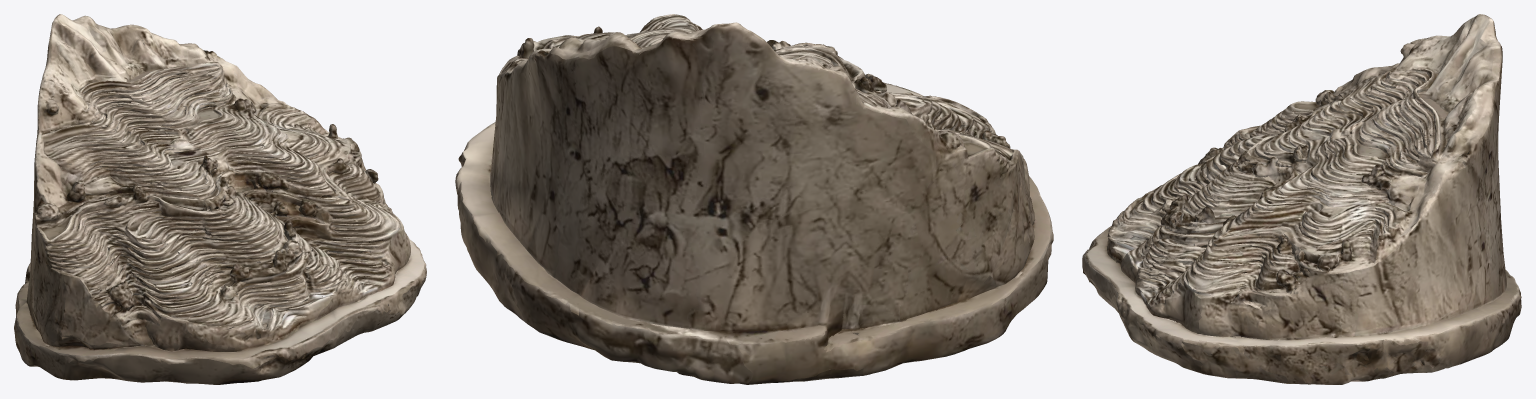
Rendered from yunhe.min.glb.
3 views of the same model, side by side, from view 1: azimuth 30°, elevation 25°; view 2: azimuth 150°, elevation 25°; view 3: azimuth 270°, elevation 25° (orthographic). The views are drawn at different scales.
Visible parts, largest first — view 1: geometry_0; view 2: geometry_0; view 3: geometry_0.
Part boxes in pixels (x1=…): geometry_0: x1=14, y1=14, x2=426, y2=384; geometry_0: x1=455, y1=14, x2=1053, y2=384; geometry_0: x1=1082, y1=14, x2=1521, y2=384.
Bounding box in the file's own units: 0.3499 × 0.2401 × 0.348.
1 material, 1 textured.
